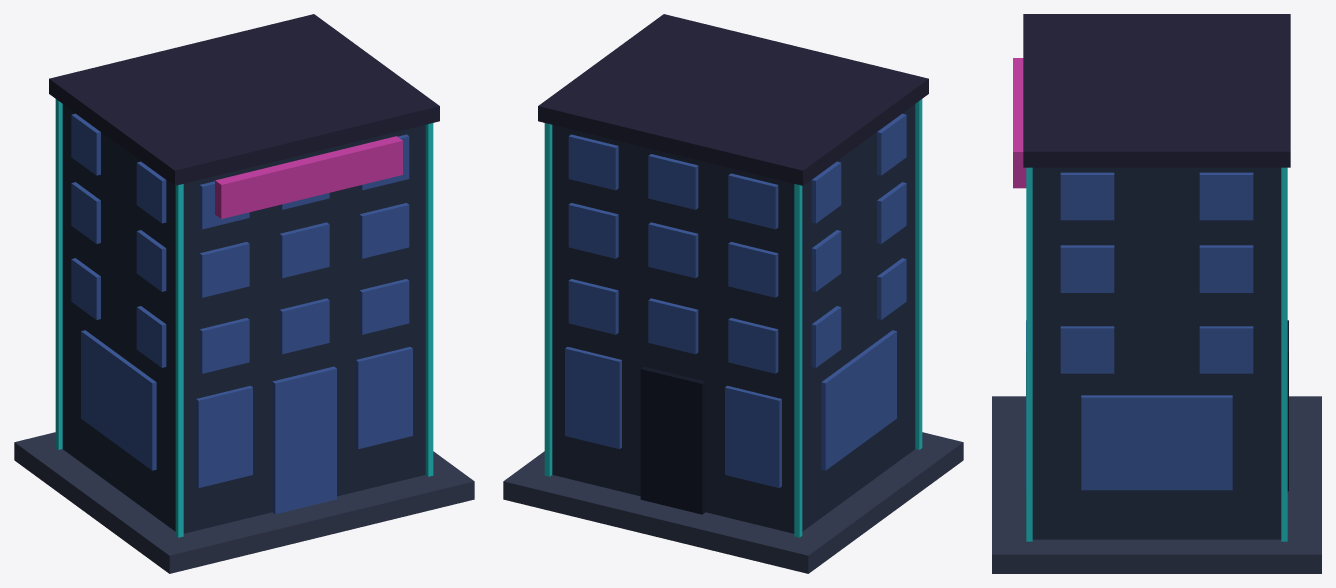
File: Neon_DataTower_Simple.glb
The picture shows the model from 3 angles, left to right: view 1: azimuth 30°, elevation 25°; view 2: azimuth 150°, elevation 25°; view 3: azimuth 270°, elevation 25°; orthographic projection. The views are drawn at different scales.
Parts seen in each view (by area): view 1: Neon_DataTower_Simple; view 2: Neon_DataTower_Simple; view 3: Neon_DataTower_Simple.
Part boxes in pixels (x1,y1,x2,y2): Neon_DataTower_Simple: [14, 14, 474, 573]; Neon_DataTower_Simple: [503, 14, 963, 573]; Neon_DataTower_Simple: [992, 14, 1321, 573].
Size of the model in its own units: 4.2 by 5.1 by 3.7.
